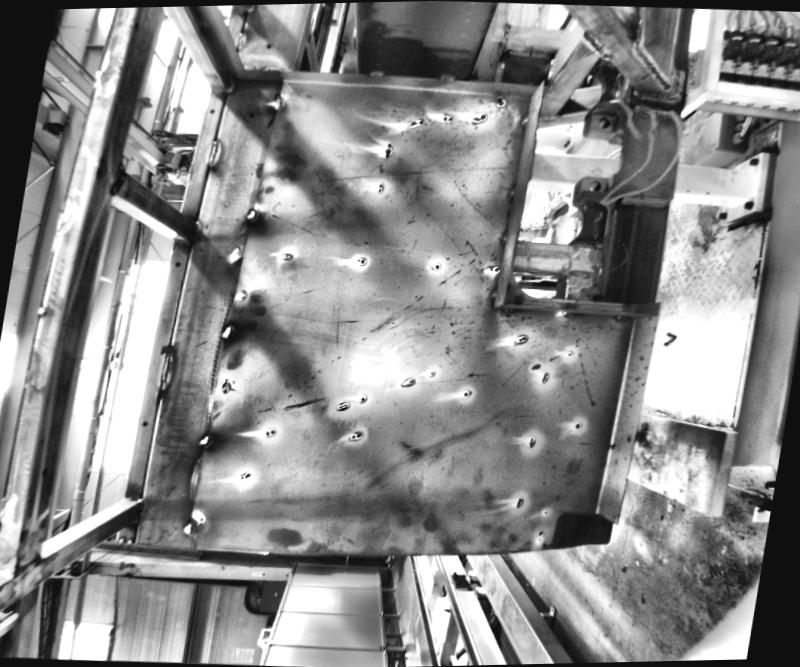hole: (586, 176, 600, 192), (598, 117, 614, 130), (264, 40, 274, 48), (248, 111, 257, 118), (172, 260, 182, 266), (142, 420, 149, 425), (211, 108, 215, 111)
welding: (629, 45, 673, 86), (578, 30, 604, 58), (160, 347, 174, 395), (199, 428, 218, 451), (235, 26, 248, 52), (246, 205, 262, 226), (207, 136, 219, 164), (222, 324, 236, 340), (272, 94, 284, 112), (519, 112, 534, 126), (190, 221, 200, 242), (439, 71, 458, 82), (183, 520, 197, 534), (507, 183, 520, 197), (611, 312, 631, 321), (499, 228, 510, 240), (553, 308, 574, 314), (371, 69, 384, 77), (489, 288, 497, 299), (500, 307, 510, 312)
